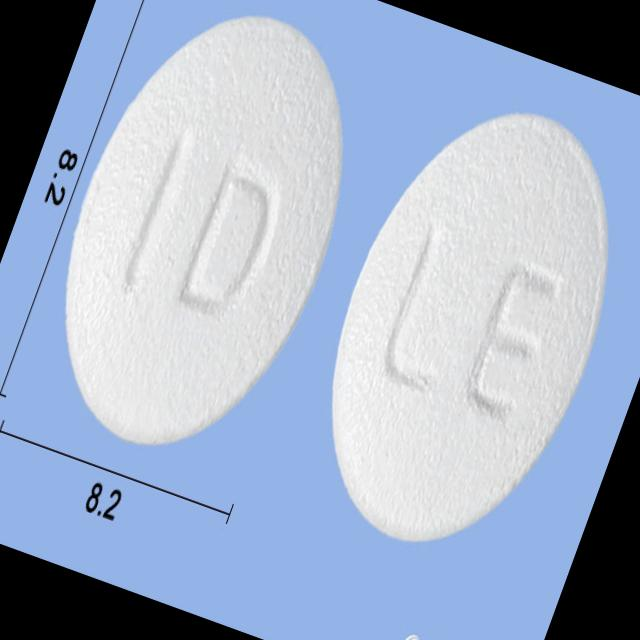Levofexin - 250mg: (10, 0, 395, 484), (279, 75, 640, 583)
